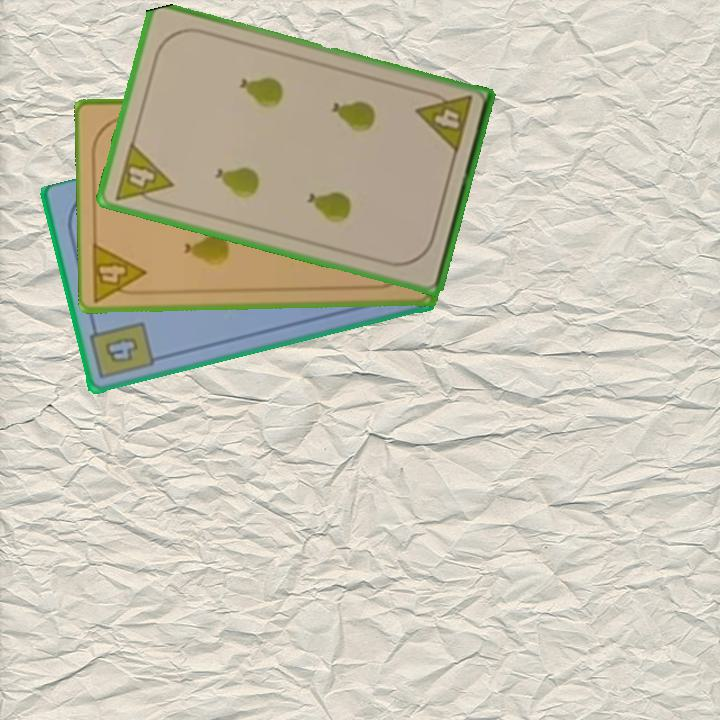4b: (87, 318, 157, 383)
4p: (110, 138, 176, 210), (413, 86, 475, 157), (90, 239, 152, 305)
